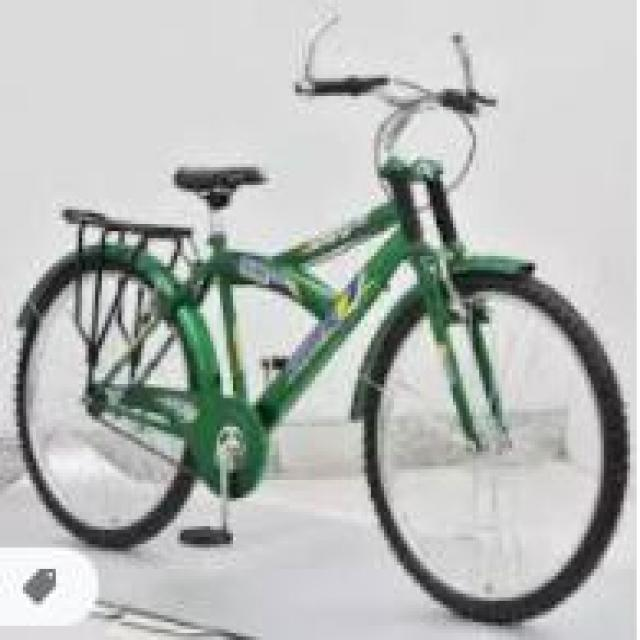bicycle: (1, 86, 631, 595)
